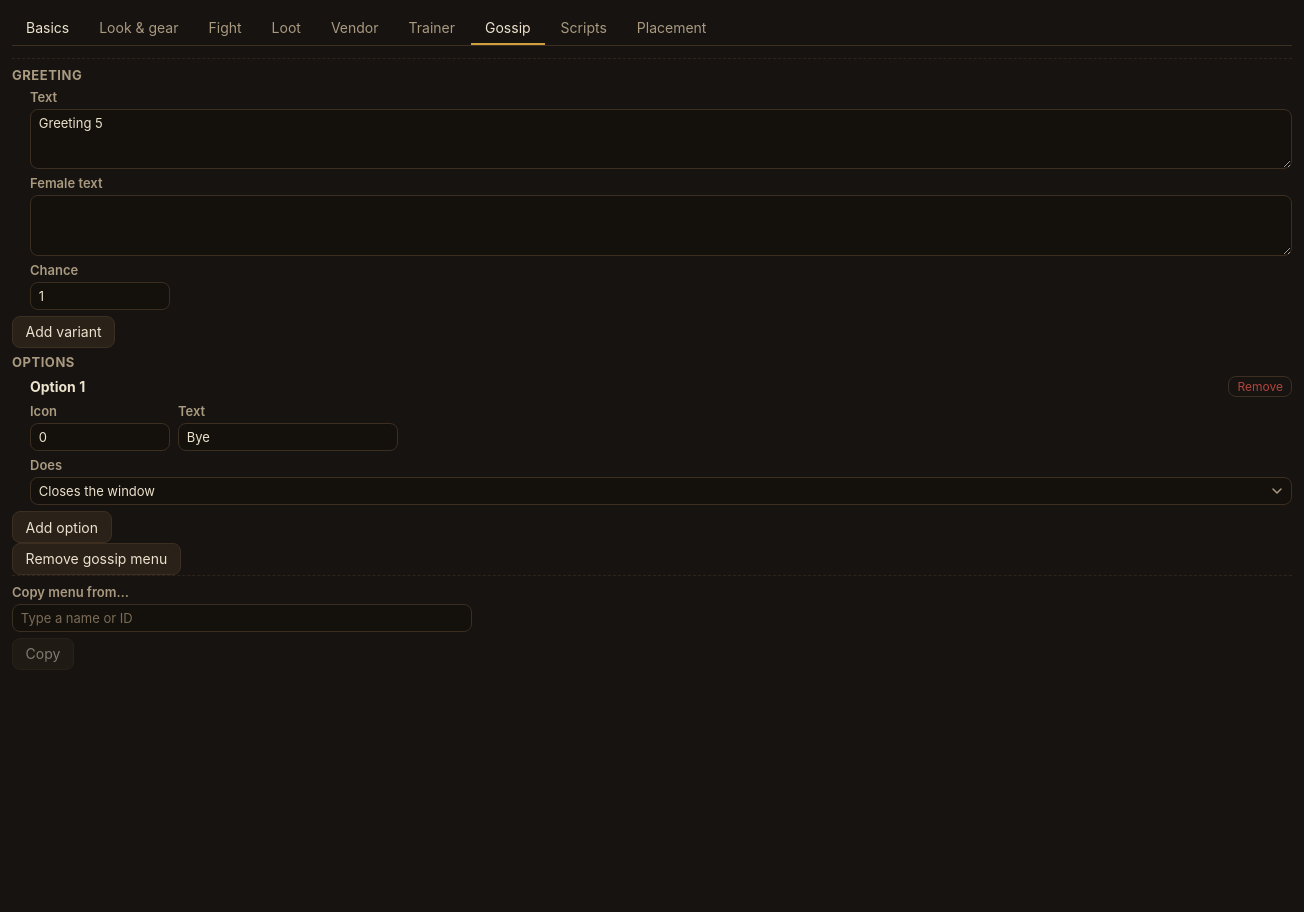
it: the Gossip tab: making and editing a menu › does not make a new menu when no ids could be got
Step 1. Select "Opens menu…" in the dropdown labelled "Does" → coordinates (661, 491), box [30,477,1292,506]
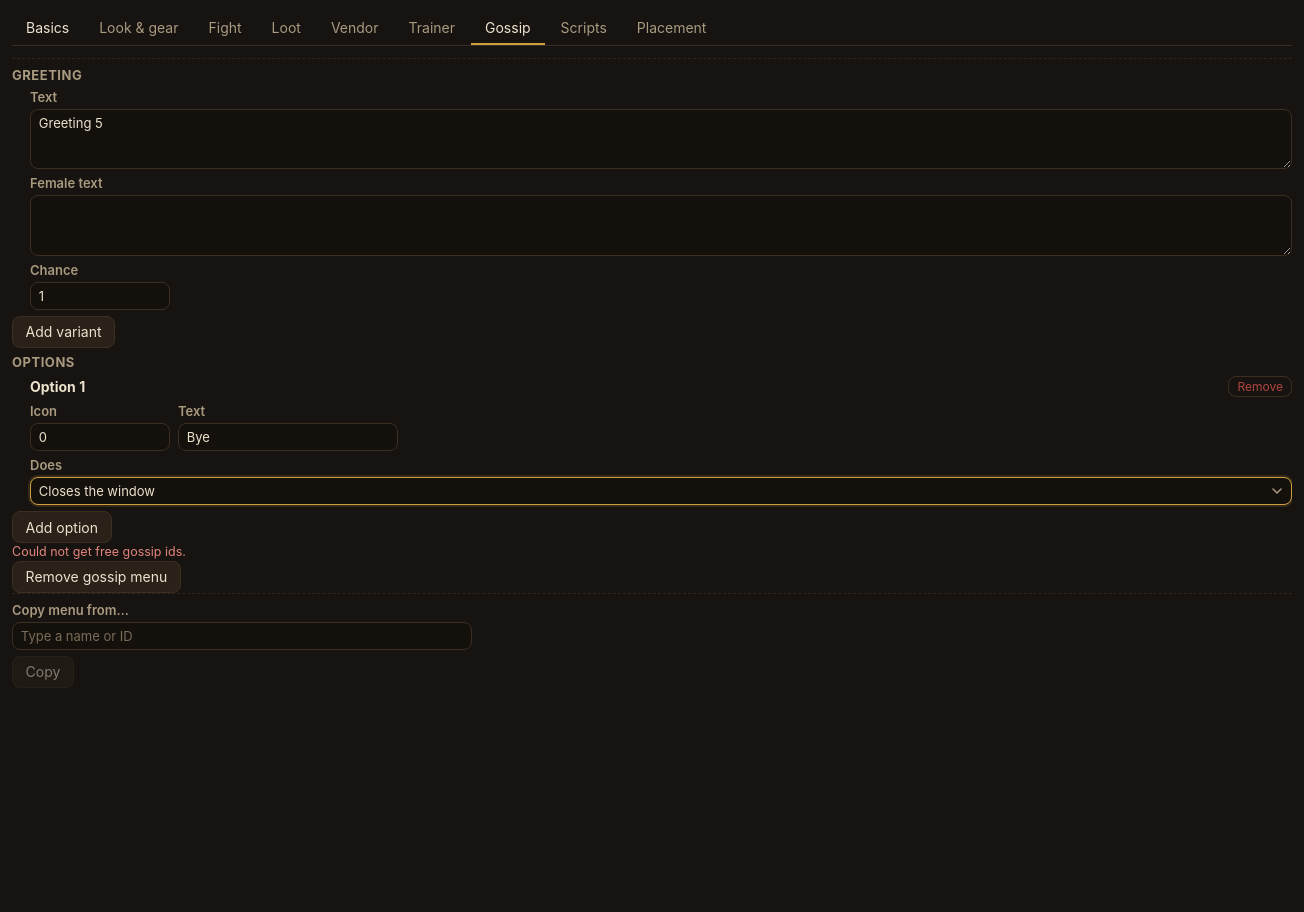
Result: the message reads "Could not get free gossip ids." at [12,544,186,559]
